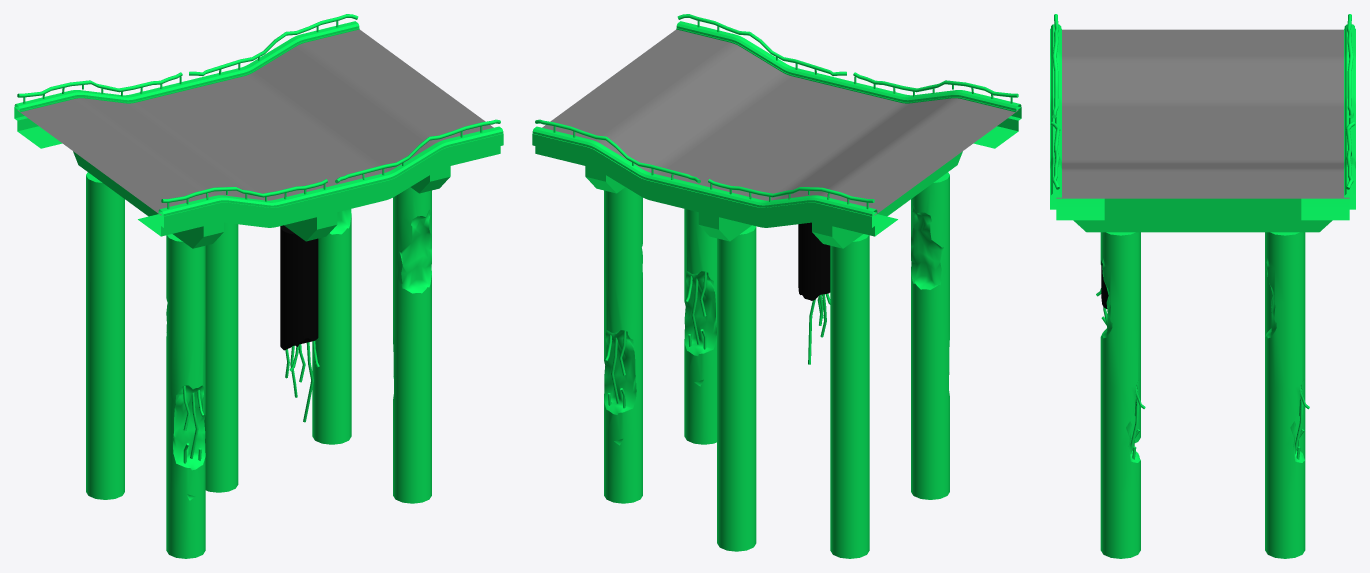
File: Track_Asphalt_04.fbx
3 renders of one model, left to right at view 1: azimuth 30°, elevation 25°; view 2: azimuth 150°, elevation 25°; view 3: azimuth 270°, elevation 25°, orthographic. The views are drawn at different scales.
Parts seen in each view (by area): view 1: Track_Asphalt_04, Road; view 2: Track_Asphalt_04, Road; view 3: Road, Track_Asphalt_04.
Part boxes in pixels (box(x1,y1,x2,y2)): Track_Asphalt_04: box(14, 14, 503, 558); Road: box(17, 29, 493, 215); Track_Asphalt_04: box(532, 14, 1021, 558); Road: box(542, 29, 1018, 215); Road: box(1056, 29, 1349, 198); Track_Asphalt_04: box(1050, 14, 1355, 558).
Size of what is drawn, in the model's own units: 3004 by 2291 by 3447.
